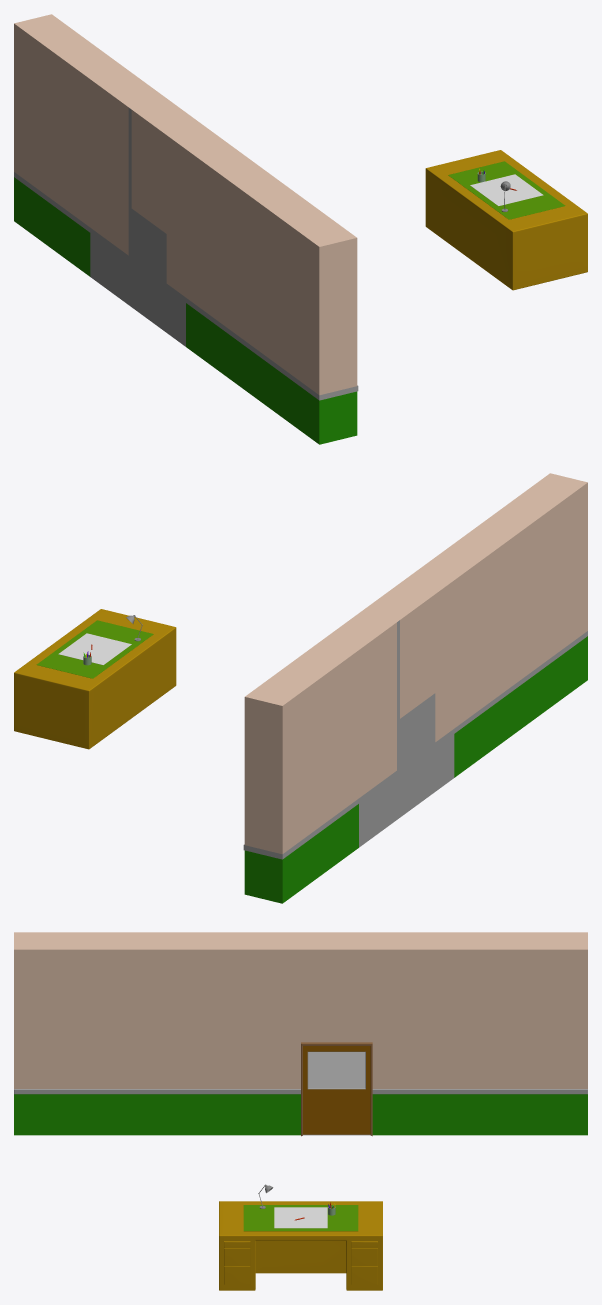
The model's file is Plummer_Office.fbx.
The picture shows the model from 3 angles, top to bottom: view 1: azimuth 30°, elevation 25°; view 2: azimuth 150°, elevation 25°; view 3: azimuth 270°, elevation 25°; orthographic projection. The views are drawn at different scales.
Parts seen in each view (by area): view 1: wall, desk, greenDeskThing, calender; view 2: wall, desk, greenDeskThing, calender; view 3: wall, desk, greenDeskThing, calender.
Boxes of the visible parts, left/top/right/bottom form: wall: left=14, top=14, right=358, bottom=444; desk: left=425, top=150, right=587, bottom=290; greenDeskThing: left=448, top=161, right=565, bottom=219; calender: left=470, top=174, right=543, bottom=206; wall: left=243, top=473, right=587, bottom=903; desk: left=14, top=609, right=176, bottom=749; greenDeskThing: left=36, top=620, right=153, bottom=678; calender: left=58, top=633, right=131, bottom=665; wall: left=14, top=932, right=587, bottom=1136; desk: left=219, top=1201, right=382, bottom=1290; greenDeskThing: left=243, top=1205, right=358, bottom=1231; calender: left=274, top=1207, right=327, bottom=1228.
Bounding box in the file's own units: 20.07 × 10 × 28.
